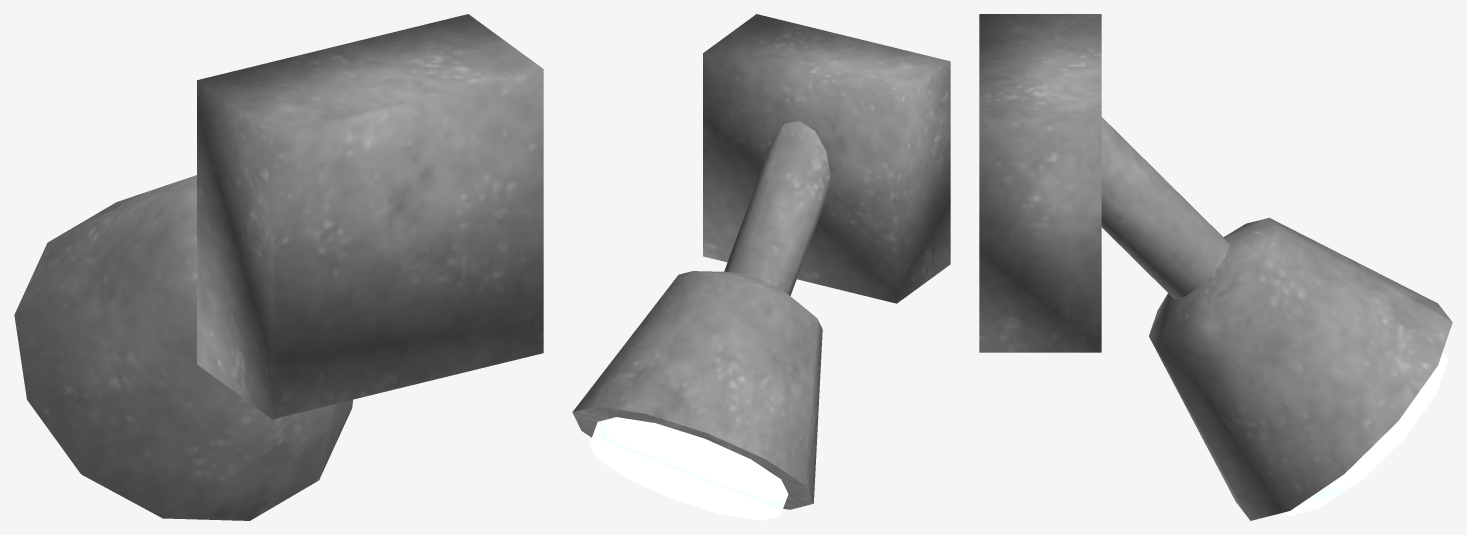
File: Lamparita.fbx
The picture shows the model from 3 angles, left to right: view 1: azimuth 30°, elevation 25°; view 2: azimuth 150°, elevation 25°; view 3: azimuth 270°, elevation 25°; orthographic projection. The views are drawn at different scales.
Visible parts, largest first — view 1: Cube.061; view 2: Cube.061; view 3: Cube.061.
Boxes of the visible parts, x1=… form: Cube.061: x1=14, y1=14, x2=543, y2=520; Cube.061: x1=572, y1=14, x2=950, y2=520; Cube.061: x1=979, y1=14, x2=1452, y2=520.
Size of the model in its own units: 27.06 by 44.18 by 43.65.
